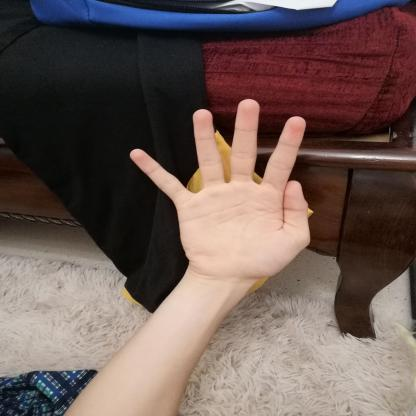SHEEN: (116, 91, 327, 294)
